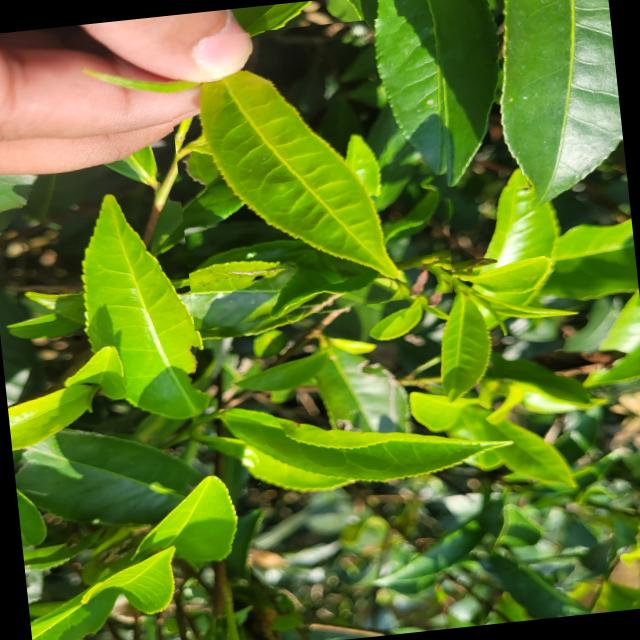Catagory A(1-2 days): (165, 12, 472, 330)
